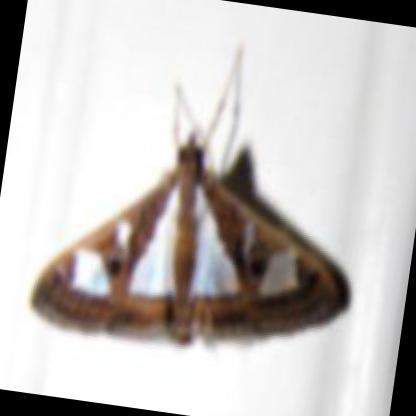Leaf Webber: (26, 130, 347, 344)
